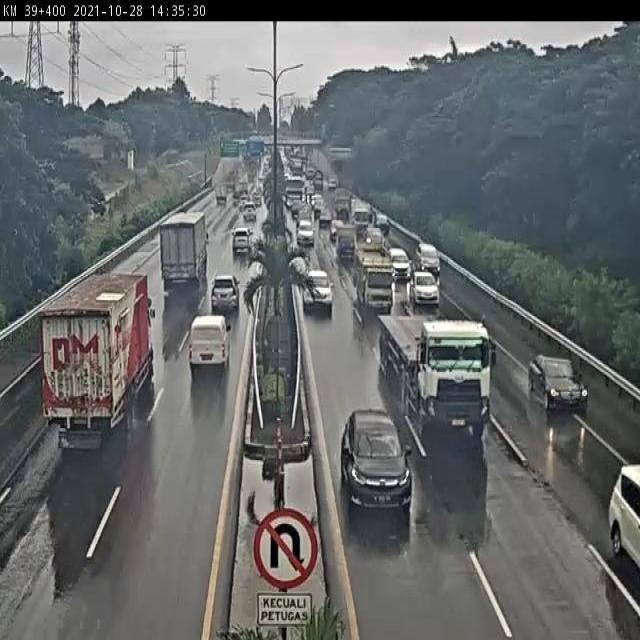big truck: (39, 275, 153, 441), (381, 313, 492, 436), (163, 213, 210, 284)
car: (341, 410, 415, 518), (524, 352, 585, 415), (615, 445, 640, 564), (191, 314, 233, 378), (209, 273, 242, 311), (302, 267, 332, 308), (411, 272, 441, 305), (389, 246, 409, 278), (229, 227, 251, 254), (418, 246, 439, 270), (365, 226, 384, 246), (298, 221, 313, 243), (374, 213, 388, 230), (243, 202, 255, 218), (330, 218, 340, 234), (292, 200, 302, 215), (319, 208, 329, 223), (314, 199, 323, 212)
small truck: (353, 245, 394, 312), (338, 225, 356, 259), (352, 201, 370, 232)
